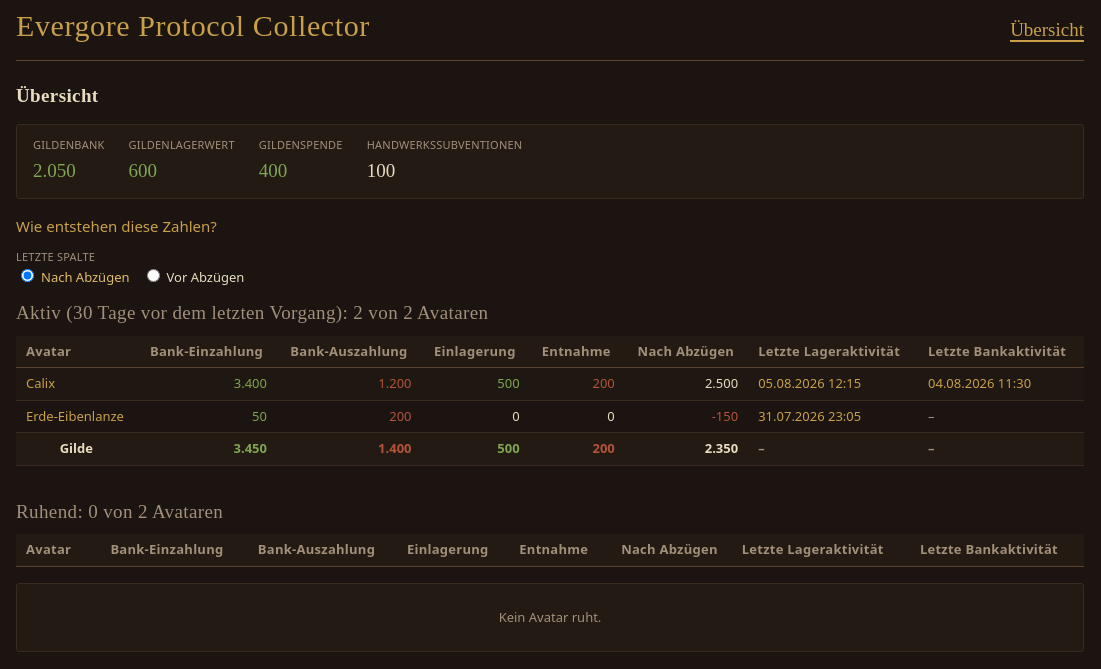
Test: App › shows a row's figure before the deductions in the switched column
Click the radio button labelled "Vor Abzügen".
click(153, 275)  # box [146, 269, 160, 282]
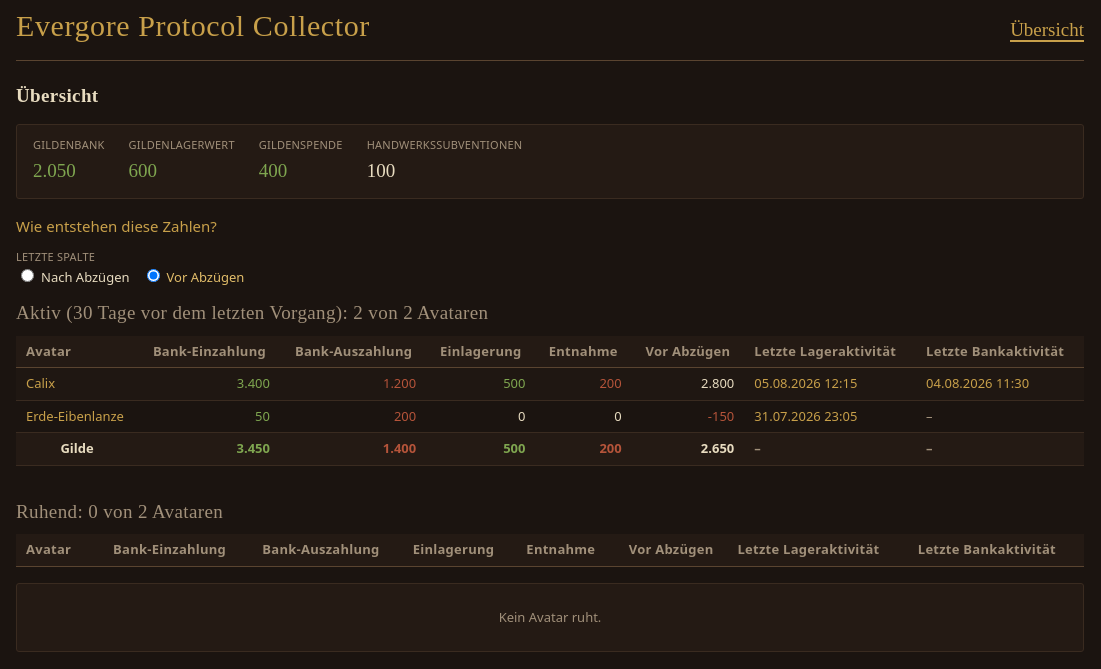
expect the row with test id "data-row" shows "2.800": met, box [701, 374, 734, 392]
